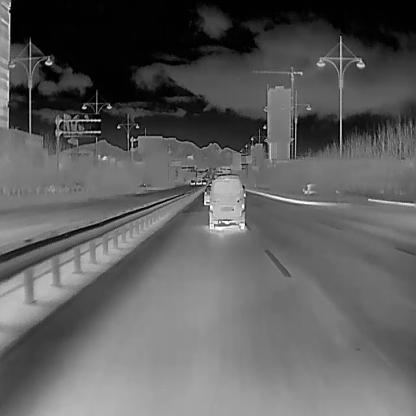car: (208, 173, 245, 230), (204, 185, 209, 205), (196, 179, 201, 184), (190, 180, 194, 185), (203, 180, 206, 184)
